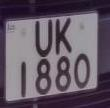0: (71, 51, 94, 90)
1: (15, 59, 33, 101)
8: (32, 56, 55, 98), (52, 54, 74, 95)
K: (53, 16, 74, 57)
U: (32, 18, 55, 60)
